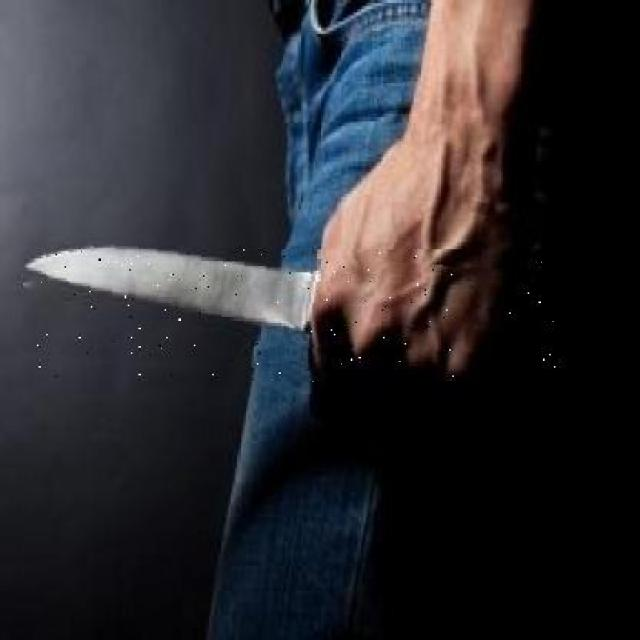knife: (24, 249, 556, 382)
